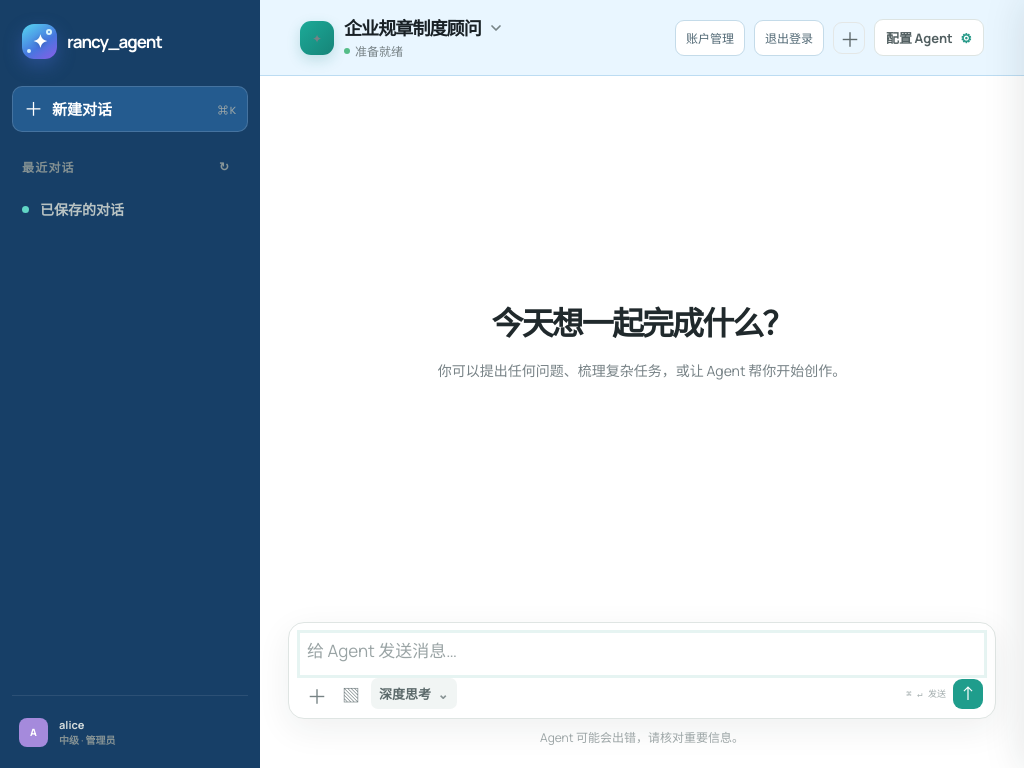
Test: creates accounts, clears their password and refreshes the list
Check: the button "退出登录" is shown, box [754,20,824,56]
Click the button "账户管理": x=710, y=38 [675,20,745,56]
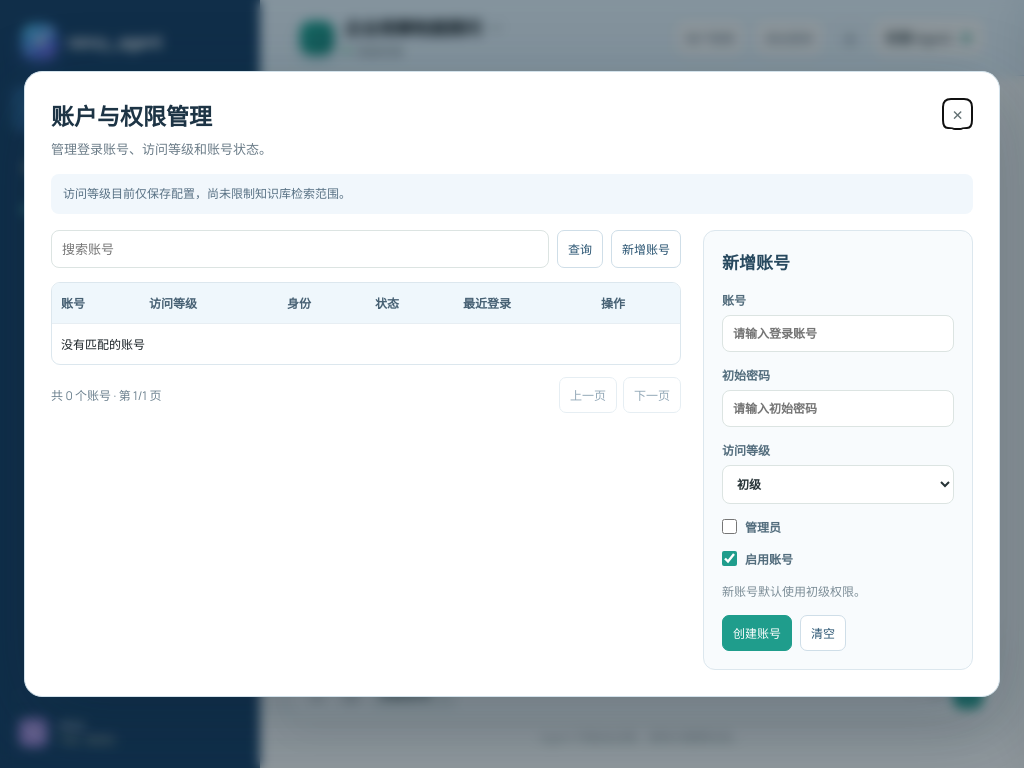
Check: the button "创建账号" is enabled, box [722,615,792,651]
In the field labelled "账号": x=838, y=333 [722,314,954,352], type "new-account"
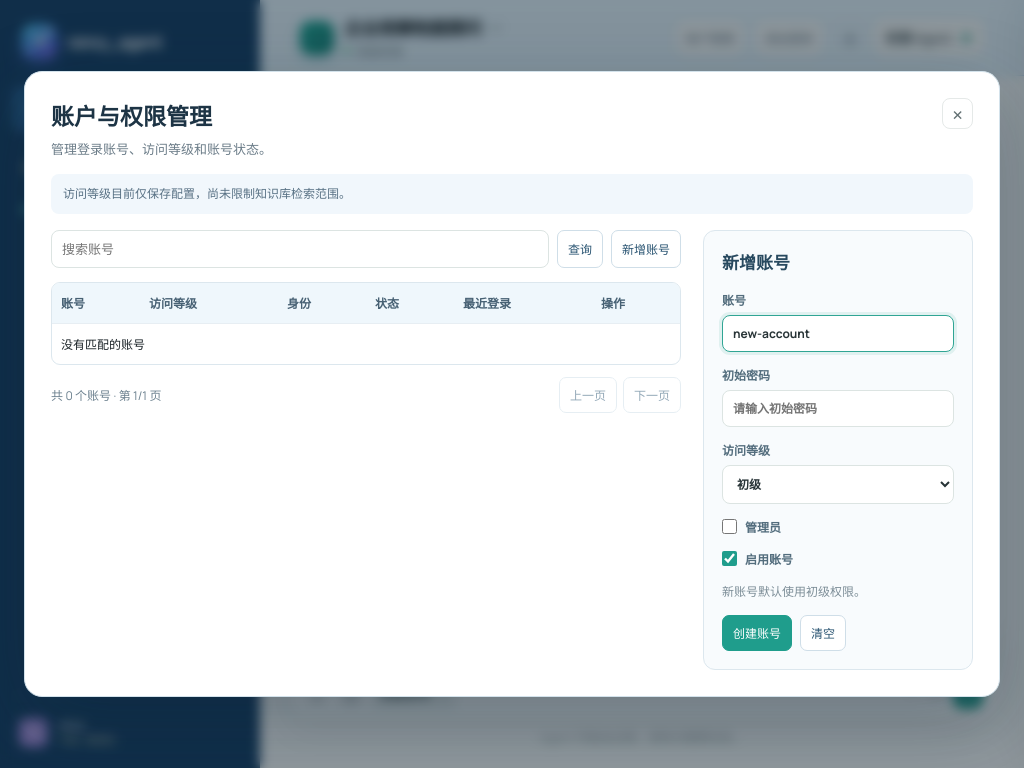
In the password field labelled "初始密码": x=838, y=408 [722,390,954,426], type "new-password"
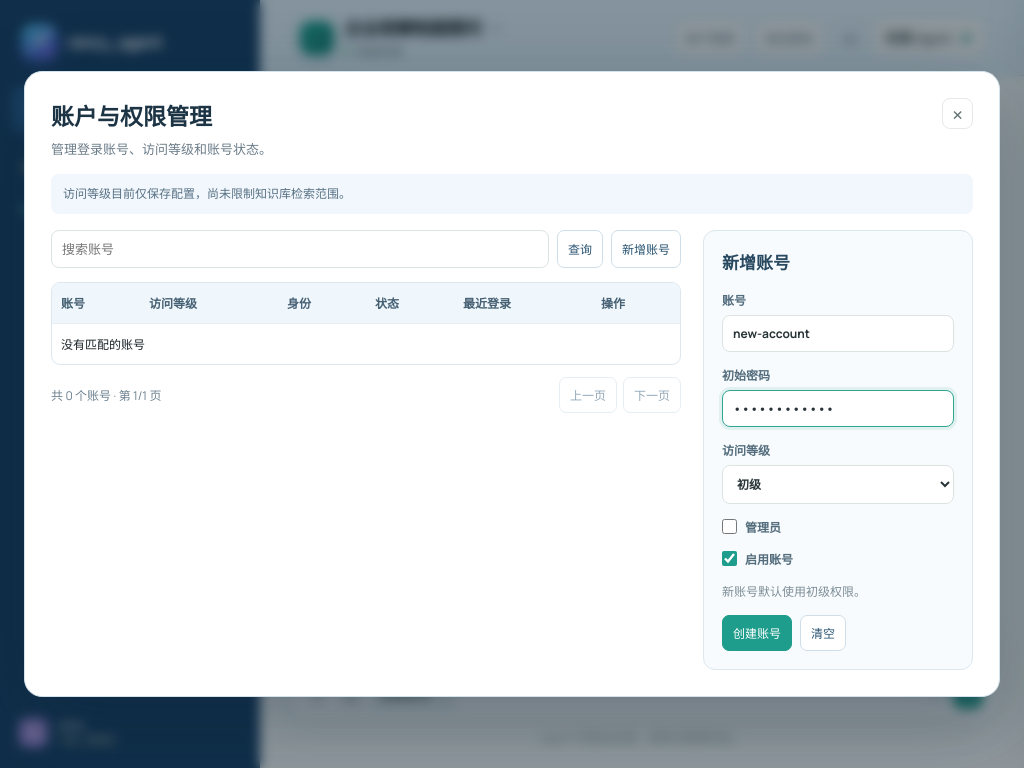
Select "中级" in the dropdown labelled "访问等级": x=838, y=484 [722,464,954,504]
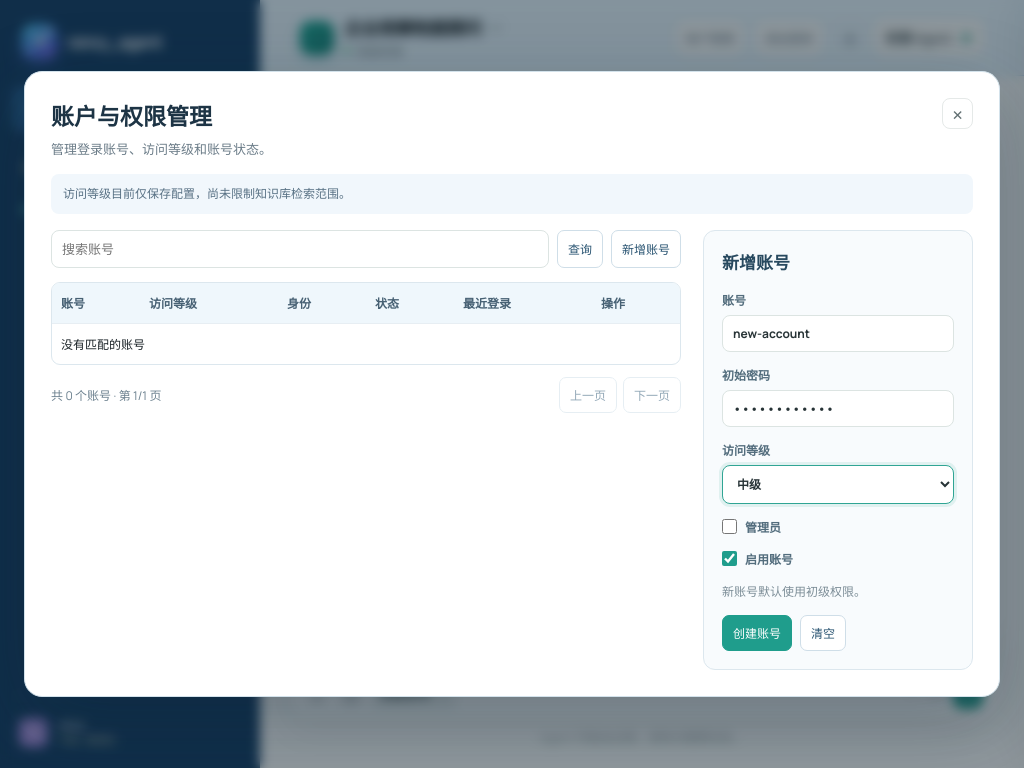
Click the button "创建账号": x=757, y=633 [722,615,792,651]
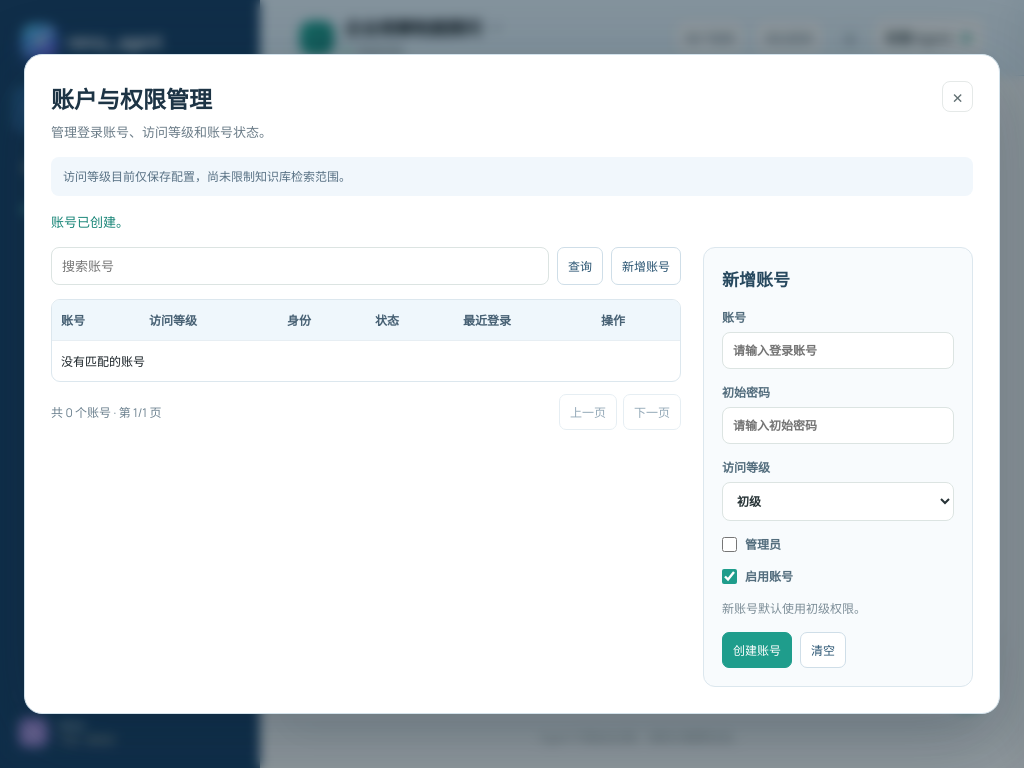
Check: the text "账号已创建。" is shown, box [51,213,129,231]
Check: the password field labelled "初始密码" is empty, box [722,407,954,444]
